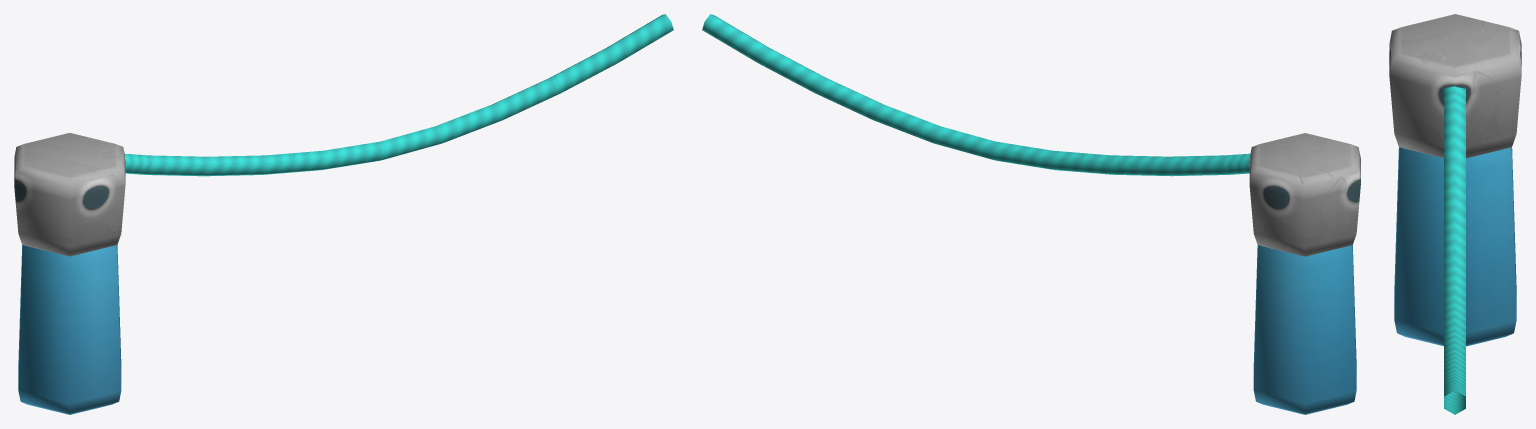
File: Post_04.fbx
The picture shows the model from 3 angles, left to right: view 1: azimuth 30°, elevation 25°; view 2: azimuth 150°, elevation 25°; view 3: azimuth 270°, elevation 25°; orthographic projection. The views are drawn at different scales.
Parts seen in each view (by area): view 1: Post_04; view 2: Post_04; view 3: Post_04.
Part boxes in pixels (x1,y1,x2,y2): Post_04: (14,14,673,414); Post_04: (702,14,1360,414); Post_04: (1389,14,1521,414).
Bounding box in the file's own units: 4.16 × 1.45 × 0.6115.
